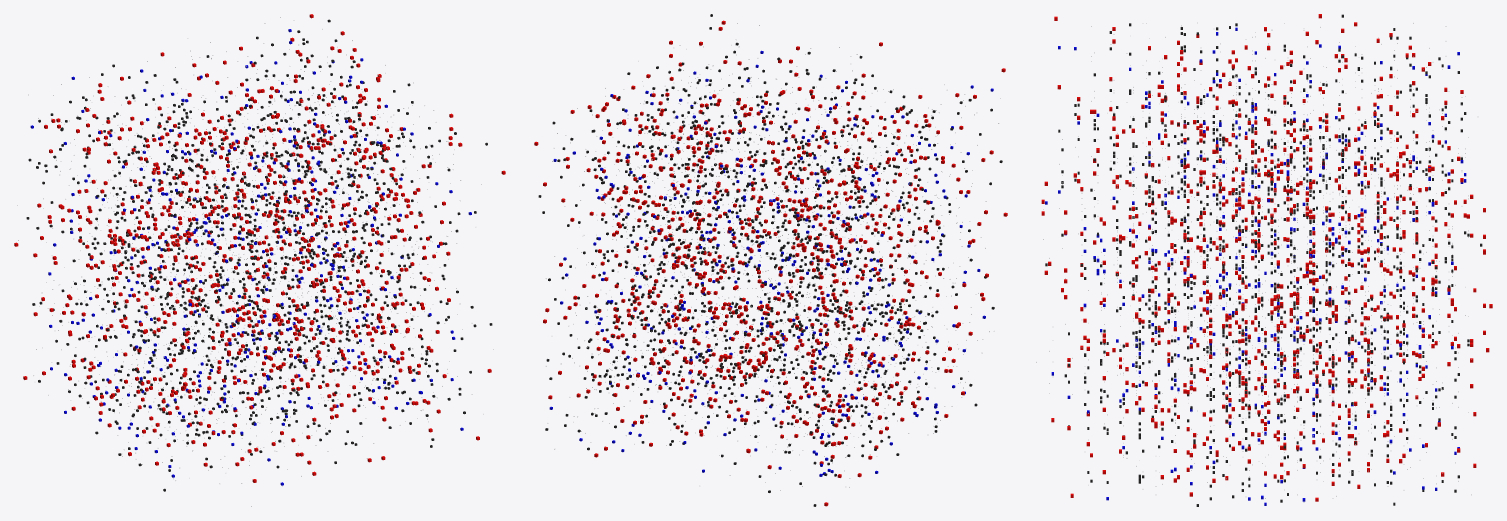
The model's file is matrix.obj.
3 views of the same model, side by side, from view 1: azimuth 30°, elevation 25°; view 2: azimuth 150°, elevation 25°; view 3: azimuth 270°, elevation 25° (orthographic). The views are drawn at different scales.
Bounding box in the file's own units: 119 × 116 × 142.
